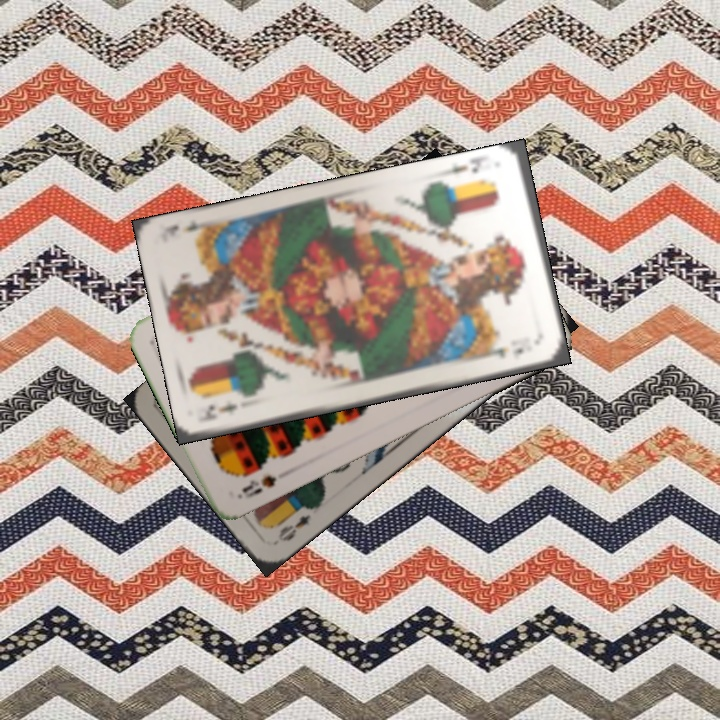EK: (443, 154, 491, 178), (198, 397, 240, 424)
EO: (274, 510, 314, 545)
S8: (237, 471, 279, 501)
